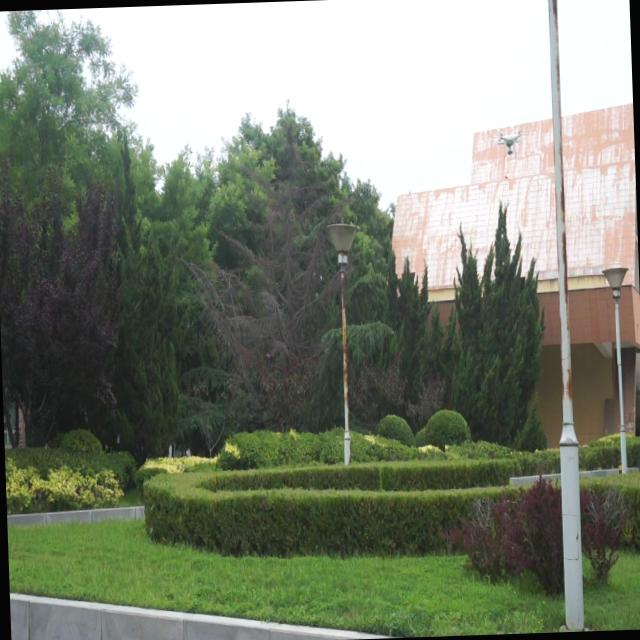drone: (496, 127, 520, 153)
